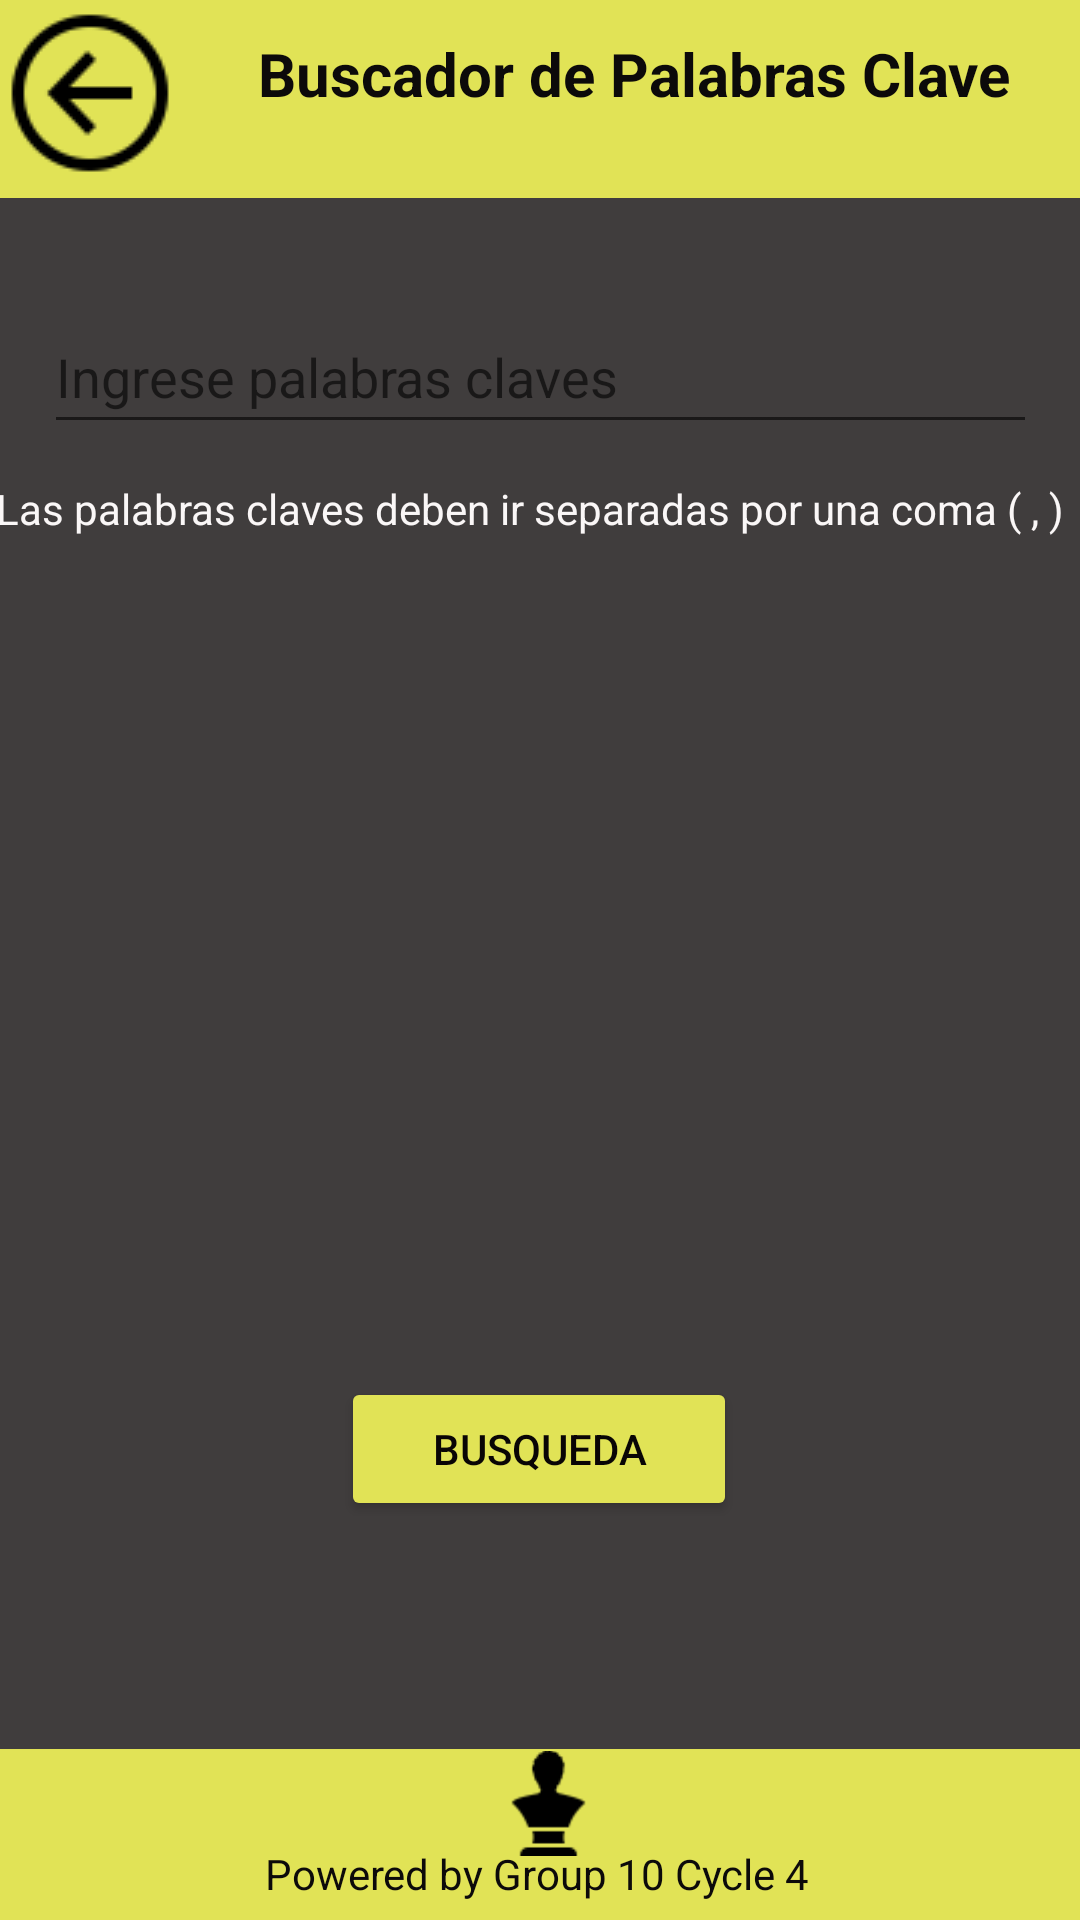

Screen size 1080px x 1920px. Icon name, then its center in pixels as (x,y):
busto: (548,1803)
izquierda en rculo: (90,93)
